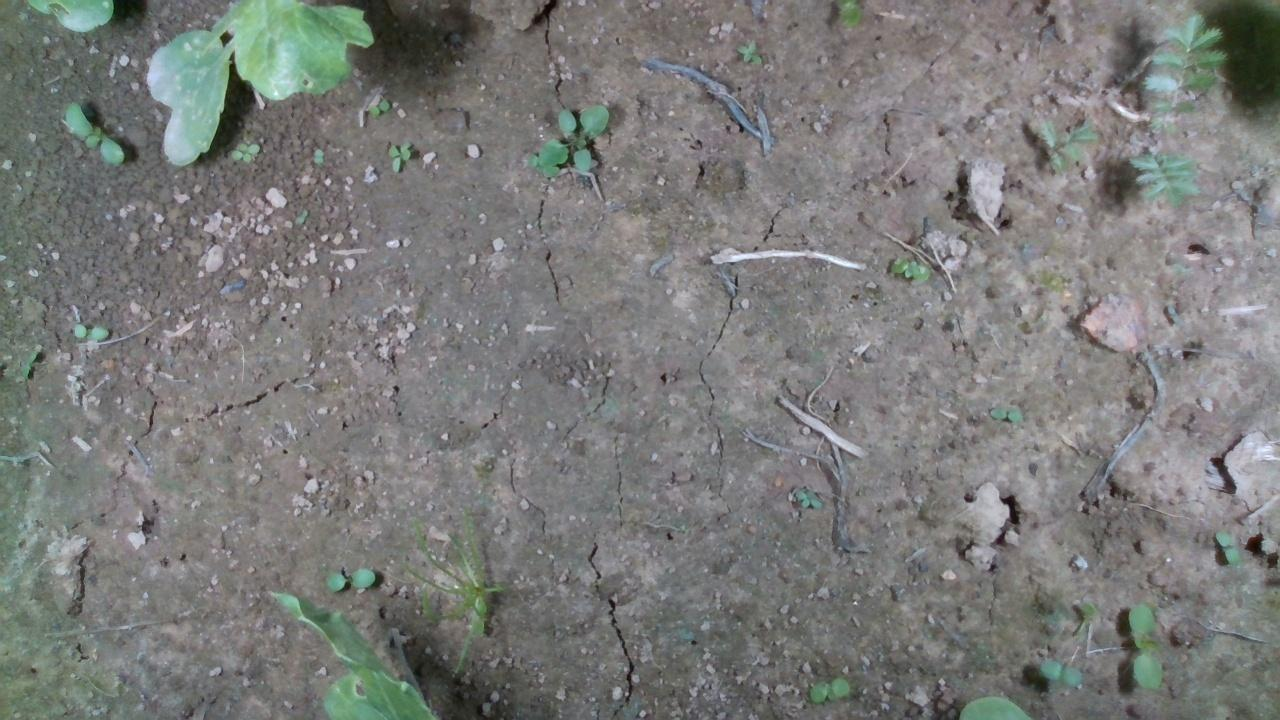weed: (54, 98, 123, 165), (311, 147, 323, 164)
